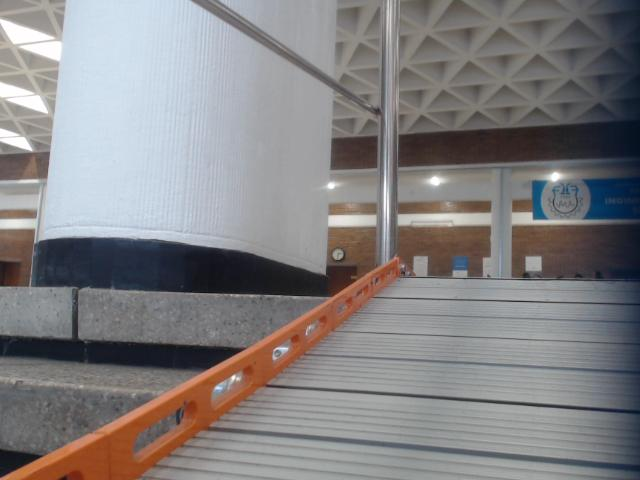rampUp: (6, 259, 639, 479)
ramps-railing: (192, 0, 399, 265)
